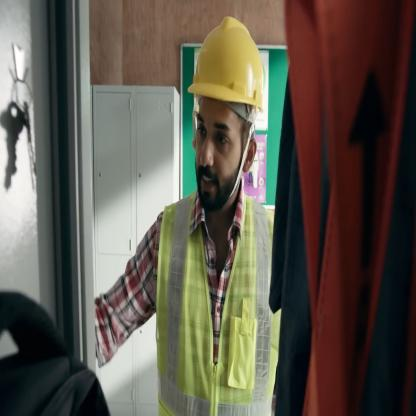capacete: (187, 14, 266, 115)
